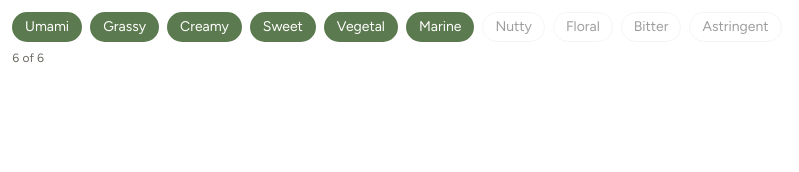
Test: FlavorNotePicker › caps at six
Expected: the text "6 of 6" is shown, [12,51,44,65]
Expected: the button "Floral" is disabled, [553,12,613,42]
// Already-picked notes stay removable at the cap.
Click the button "Umami": (47, 27) [12,12,82,42]
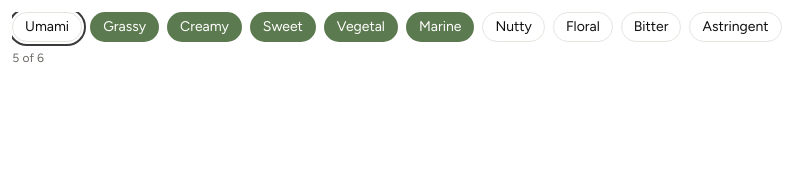
Expected: the button "Floral" is enabled, [553,12,613,42]
